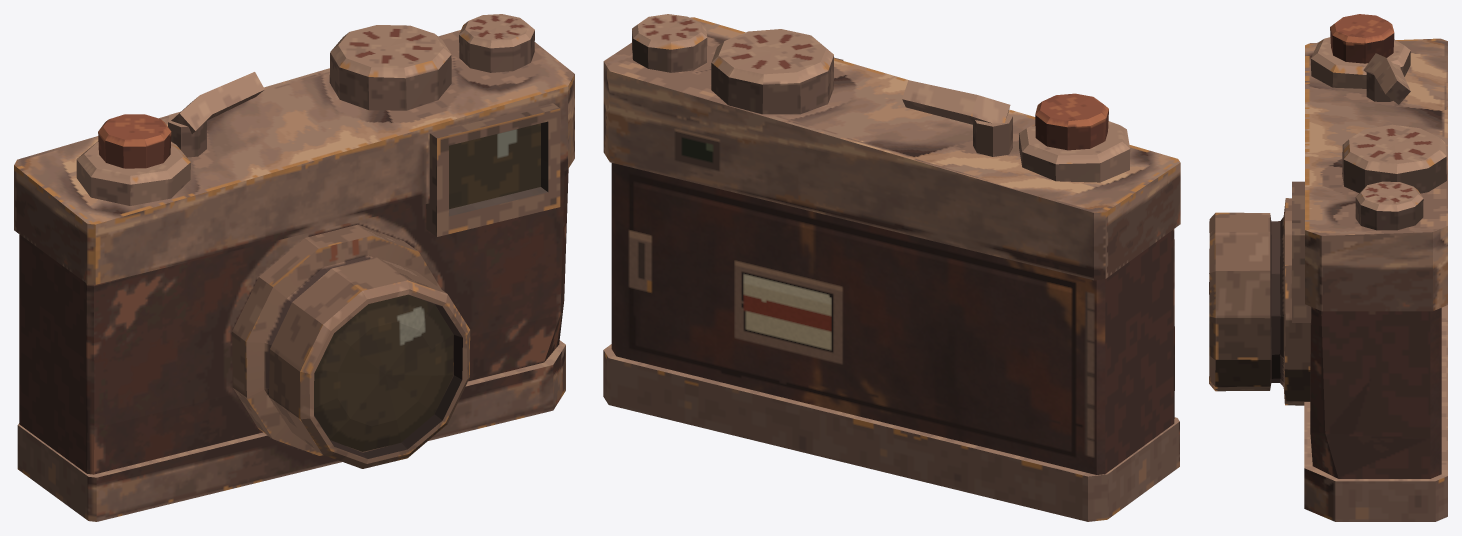
Rendered from CI15_FilmCamera.fbx.
3 views of the same model, side by side, from view 1: azimuth 30°, elevation 25°; view 2: azimuth 150°, elevation 25°; view 3: azimuth 270°, elevation 25° (orthographic). The views are drawn at different scales.
Visible parts, largest first — view 1: CI15_FilmCamera; view 2: CI15_FilmCamera; view 3: CI15_FilmCamera.
Part boxes in pixels (x1,y1,x2,y2): CI15_FilmCamera: (14, 14, 574, 521); CI15_FilmCamera: (603, 14, 1180, 521); CI15_FilmCamera: (1209, 14, 1447, 521).
Bounding box in the file's own units: 0.2045 × 0.1427 × 0.0962.
1 material, 1 textured.
